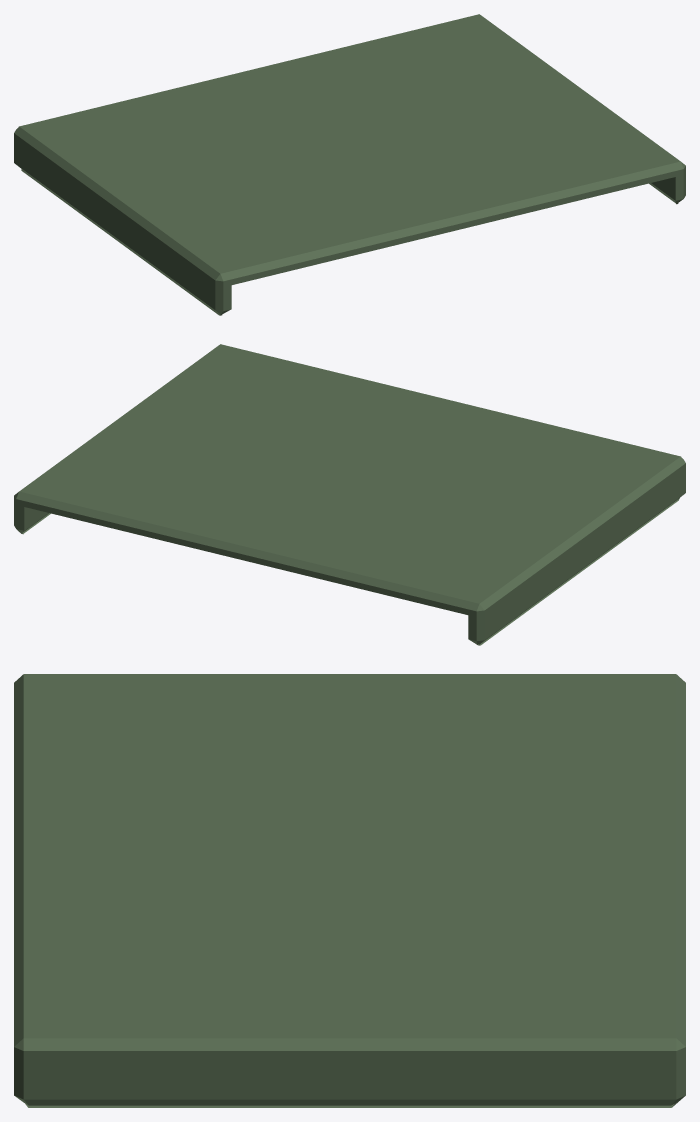
Rendered from Bedcover.fbx.
3 views of the same model, one above another, from view 1: azimuth 30°, elevation 25°; view 2: azimuth 150°, elevation 25°; view 3: azimuth 270°, elevation 25° (orthographic). The views are drawn at different scales.
Visible parts, largest first — view 1: Bedcover; view 2: Bedcover; view 3: Bedcover.
Boxes of the visible parts, box(x1,y1,x2,y2) form: Bedcover: box(14, 14, 685, 315); Bedcover: box(14, 344, 685, 645); Bedcover: box(14, 674, 685, 1107).
Bounding box in the file's own units: 1.65 × 0.145 × 1.26.
